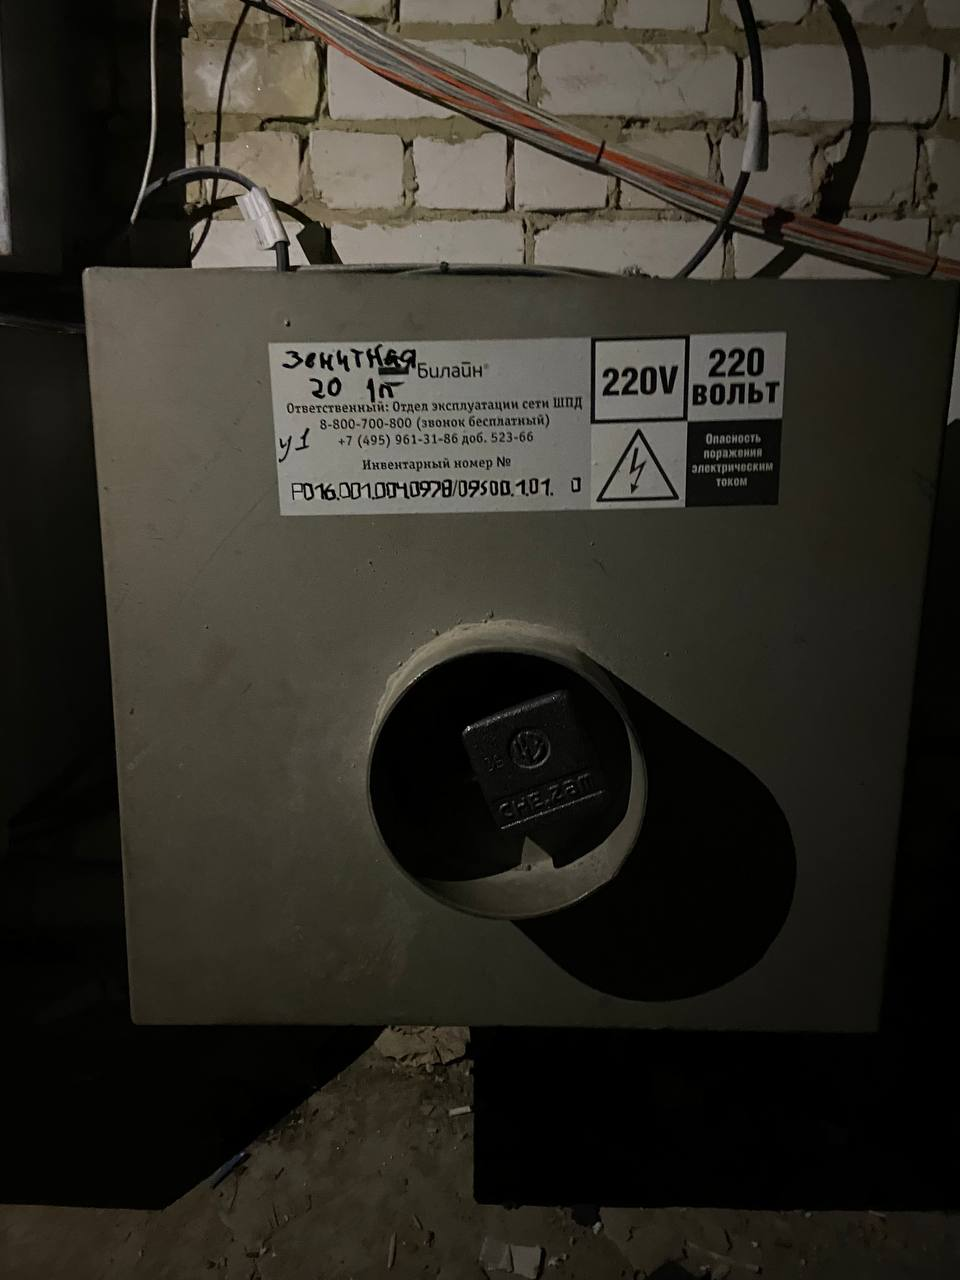shta-9: (59, 249, 952, 1046)
